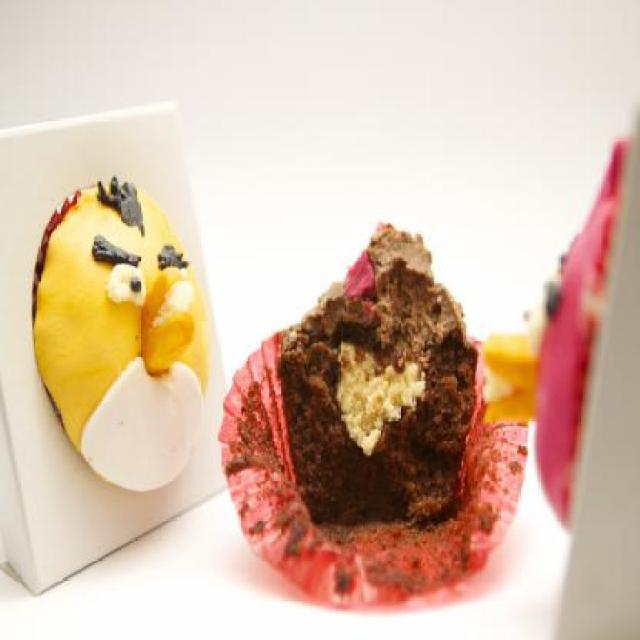Muffin: (218, 220, 534, 608), (474, 134, 636, 530), (25, 174, 214, 496)
